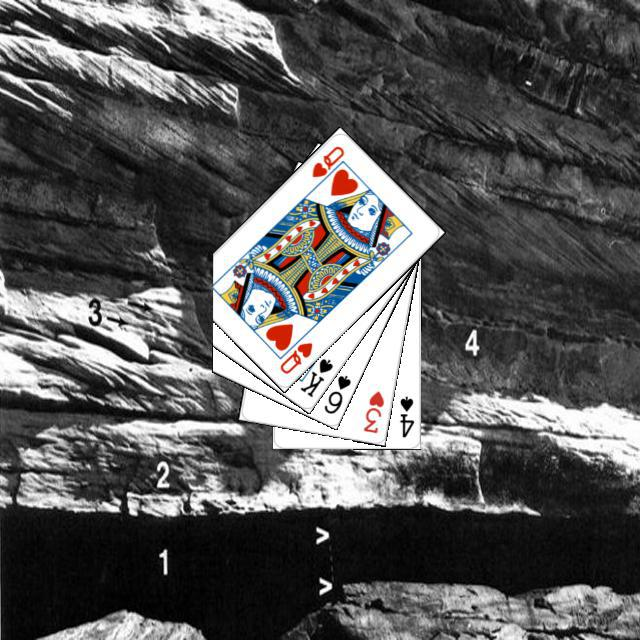3h: (358, 386, 386, 435)
4s: (395, 391, 416, 439)
6s: (319, 370, 352, 416)
Ks: (295, 353, 334, 399)
Qh: (307, 141, 346, 190), (275, 337, 314, 376)
